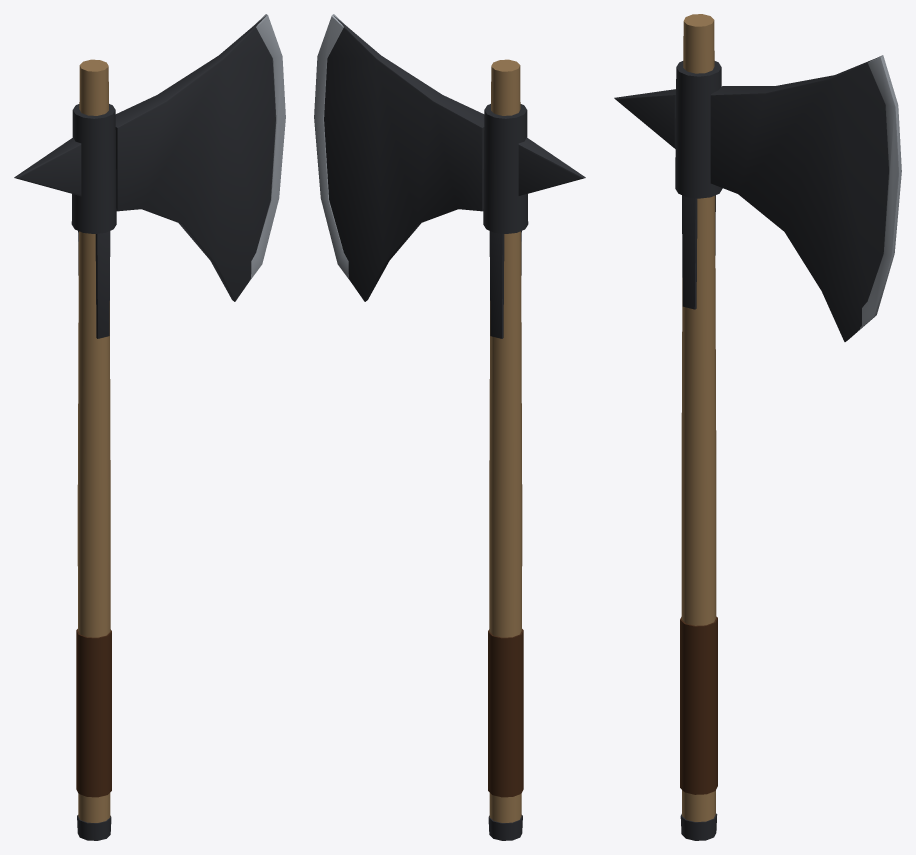
File: battleaxe.glb
The picture shows the model from 3 angles, left to right: view 1: azimuth 30°, elevation 25°; view 2: azimuth 150°, elevation 25°; view 3: azimuth 330°, elevation 25°; orthographic projection. The views are drawn at different scales.
Visible parts, largest first — view 1: battleaxe_iron, battleaxe_wood, battleaxe_leather, battleaxe_steel; view 2: battleaxe_iron, battleaxe_wood, battleaxe_leather, battleaxe_steel; view 3: battleaxe_iron, battleaxe_wood, battleaxe_leather, battleaxe_steel.
Boxes of the visible parts, <box> form: battleaxe_iron: <box>14,15,275,840</box>; battleaxe_wood: <box>77,59,110,822</box>; battleaxe_leather: <box>76,629,111,797</box>; battleaxe_steel: <box>249,14,285,281</box>; battleaxe_iron: <box>324,15,585,840</box>; battleaxe_wood: <box>489,59,522,822</box>; battleaxe_leather: <box>488,629,523,797</box>; battleaxe_steel: <box>314,14,350,281</box>; battleaxe_iron: <box>614,57,888,840</box>; battleaxe_wood: <box>681,14,716,821</box>; battleaxe_leather: <box>680,616,717,794</box>; battleaxe_steel: <box>857,55,901,331</box>.
Bounding box in the file's own units: 0.321 × 0.882 × 0.046.
